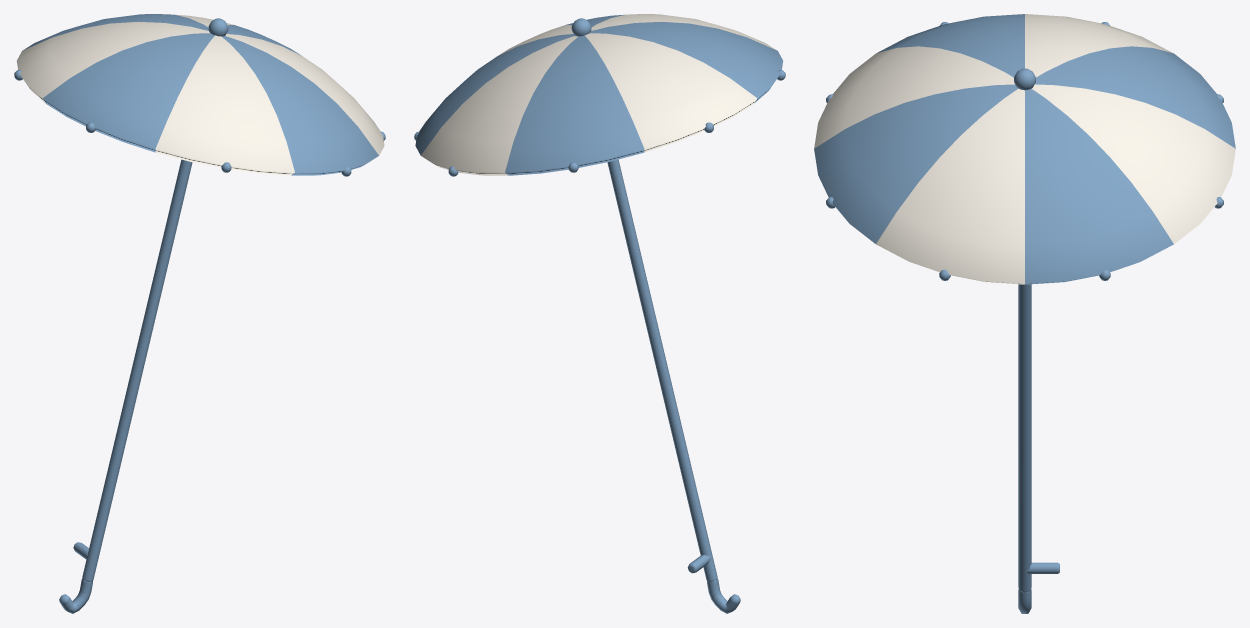
The model's file is beach_umbrella.glb.
The picture shows the model from 3 angles, left to right: view 1: azimuth 30°, elevation 25°; view 2: azimuth 150°, elevation 25°; view 3: azimuth 270°, elevation 25°; orthographic projection. The views are drawn at different scales.
Visible parts, largest first — view 1: beach_umbrella_ArmR; view 2: beach_umbrella_ArmR; view 3: beach_umbrella_ArmR.
Boxes of the visible parts, x1,y1,x2,y2 form: beach_umbrella_ArmR: [14, 14, 385, 613]; beach_umbrella_ArmR: [414, 14, 785, 613]; beach_umbrella_ArmR: [814, 14, 1235, 613].
Size of the model in its own units: 0.8703 by 1.47 by 0.9.
